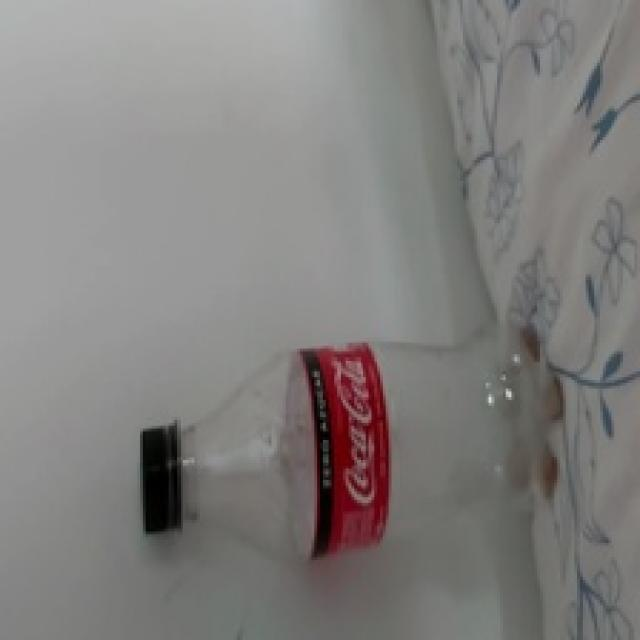Plastic: (140, 314, 564, 560)
